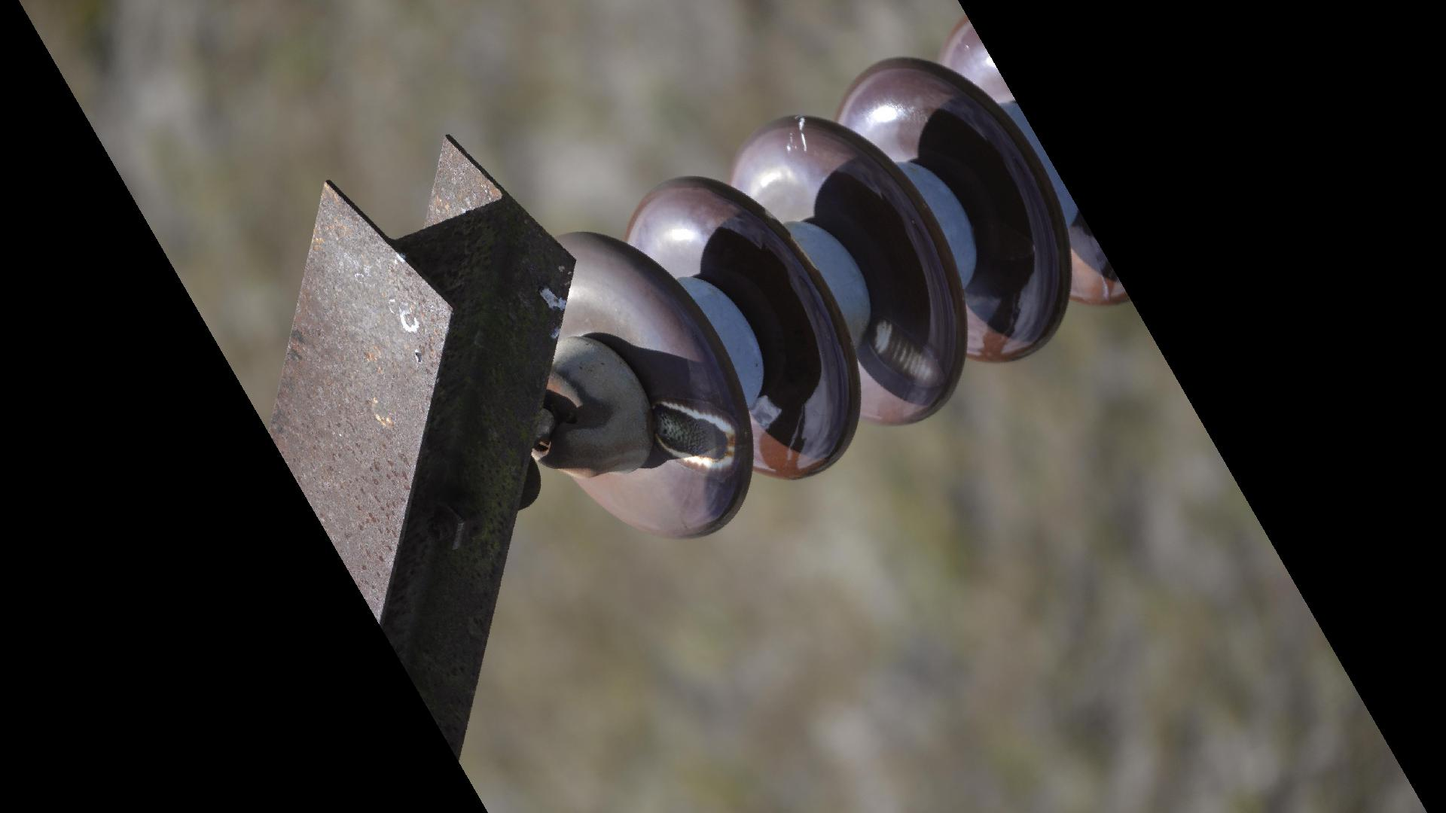insulator: (529, 15, 1134, 547)
insulator_flashover: (645, 394, 738, 477), (865, 314, 950, 393)
